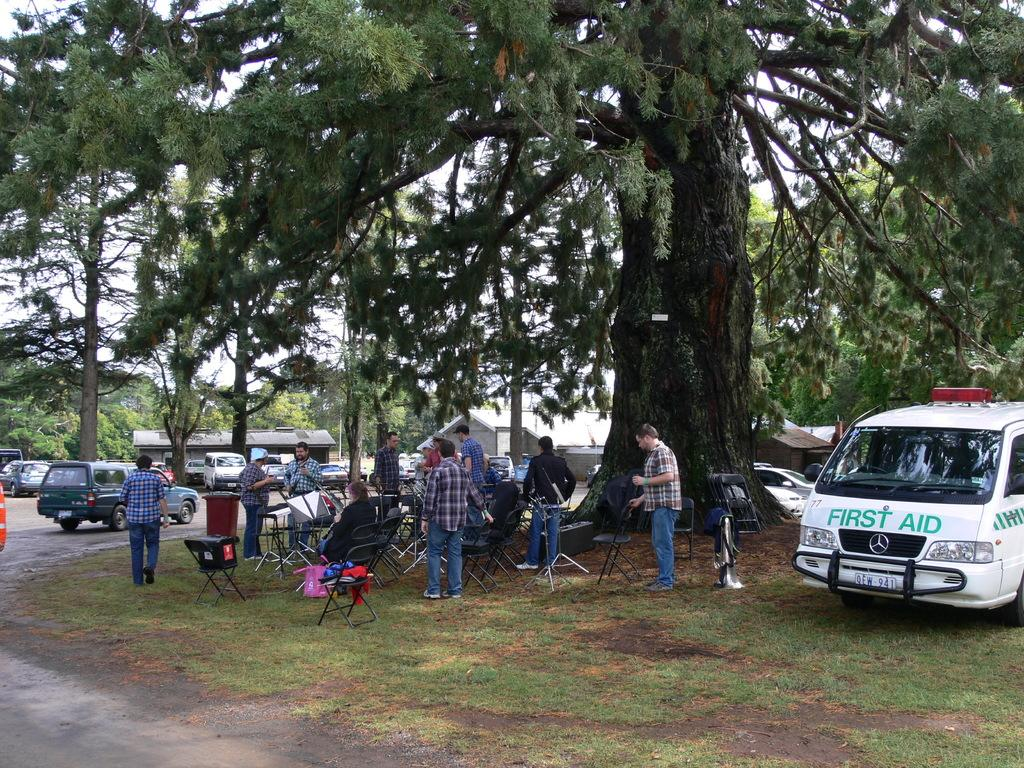Ambulance: (789, 388, 1023, 632)
